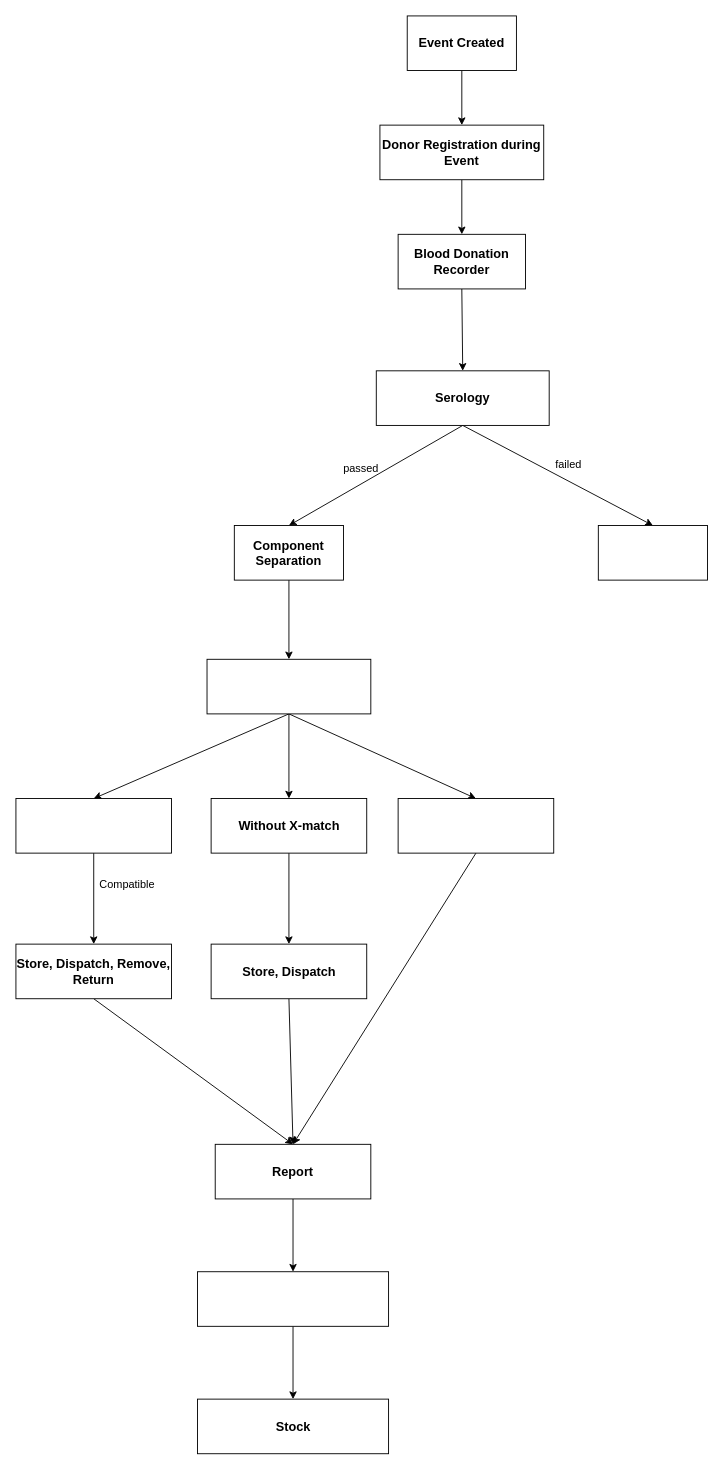
Some shapes in this 723 by 1470 pixel diagram are drawn without their labels. Here are the shapes that lost their labels. From the top down, the box of each, then its label:
(597, 525, 708, 580): Bag Discard
(206, 658, 371, 714): Invoice
(15, 798, 172, 853): With Cross-Match
(397, 798, 554, 853): Tests
(197, 1271, 389, 1326): Issue/ Transfer
